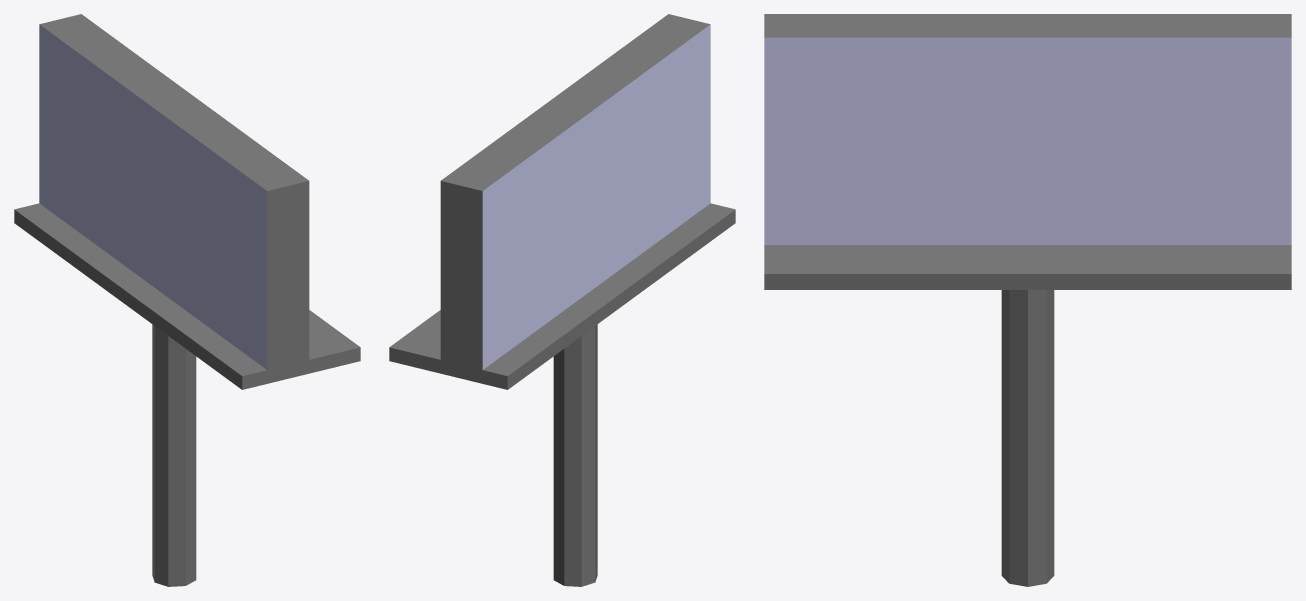
Rendered from billboard.glb.
3 views of the same model, side by side, from view 1: azimuth 30°, elevation 25°; view 2: azimuth 150°, elevation 25°; view 3: azimuth 270°, elevation 25° (orthographic). The views are drawn at different scales.
Parts seen in each view (by area): view 1: Cube, Cube.001, Cylinder; view 2: Cube, Cube.001, Cylinder; view 3: Cube, Cube.001, Cylinder.
Part boxes in pixels (x1=…): Cube: x1=39, y1=14, x2=309, y2=369; Cube.001: x1=14, y1=203, x2=360, y2=389; Cylinder: x1=152, y1=324, x2=196, y2=586; Cube: x1=440, y1=14, x2=710, y2=369; Cube.001: x1=389, y1=203, x2=735, y2=389; Cylinder: x1=553, y1=324, x2=597, y2=586; Cube: x1=764, y1=14, x2=1291, y2=244; Cube.001: x1=764, y1=245, x2=1291, y2=289; Cylinder: x1=1001, y1=290, x2=1054, y2=586.
Size of the model in its own units: 9 by 34.5 by 30.
